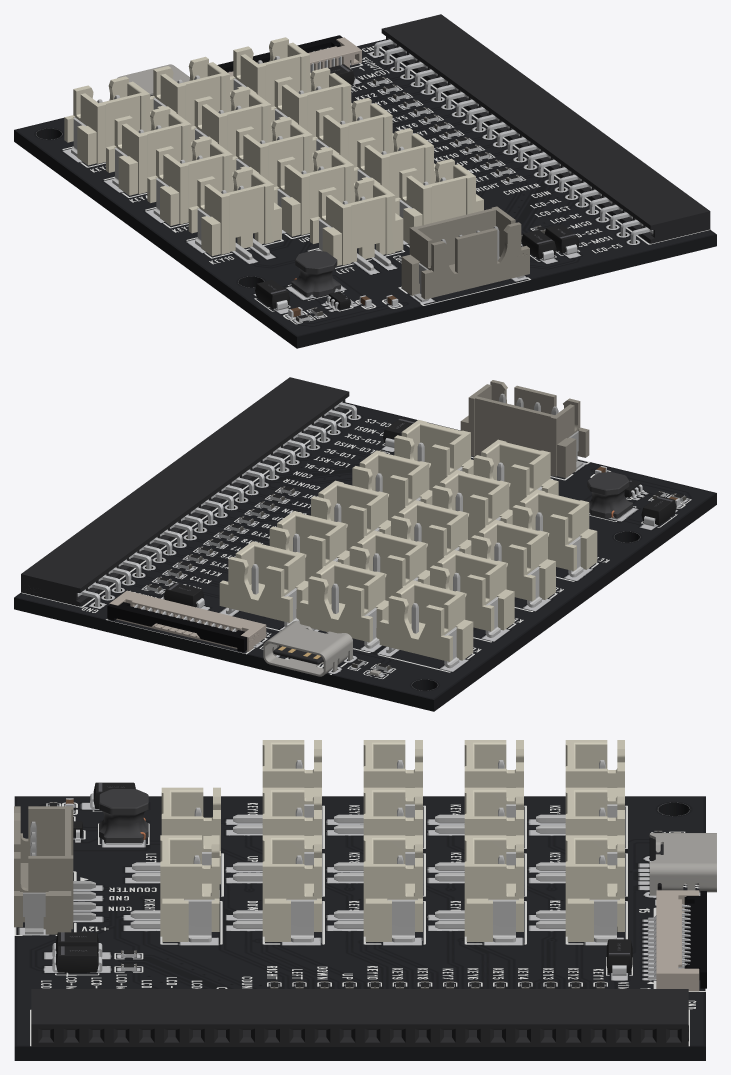
Rendered from arcade-mainboard.glb.
The picture shows the model from 3 angles, top to bottom: view 1: azimuth 30°, elevation 25°; view 2: azimuth 150°, elevation 25°; view 3: azimuth 270°, elevation 25°; orthographic projection. The views are drawn at different scales.
Visible parts, largest first — view 1: x_lin, x_lin.001; view 2: x_lin, x_lin.001; view 3: x_lin, x_lin.001.
Part boxes in pixels (x1,y1,x2,y2): x_lin: (14,14,716,348); x_lin.001: (14,39,716,336); x_lin: (14,377,716,711); x_lin.001: (14,402,716,699); x_lin: (14,740,716,1060); x_lin.001: (14,796,705,1046).
Bounding box in the file's own units: 60 × 11.2 × 71.14.
28 materials, 2 textured.
